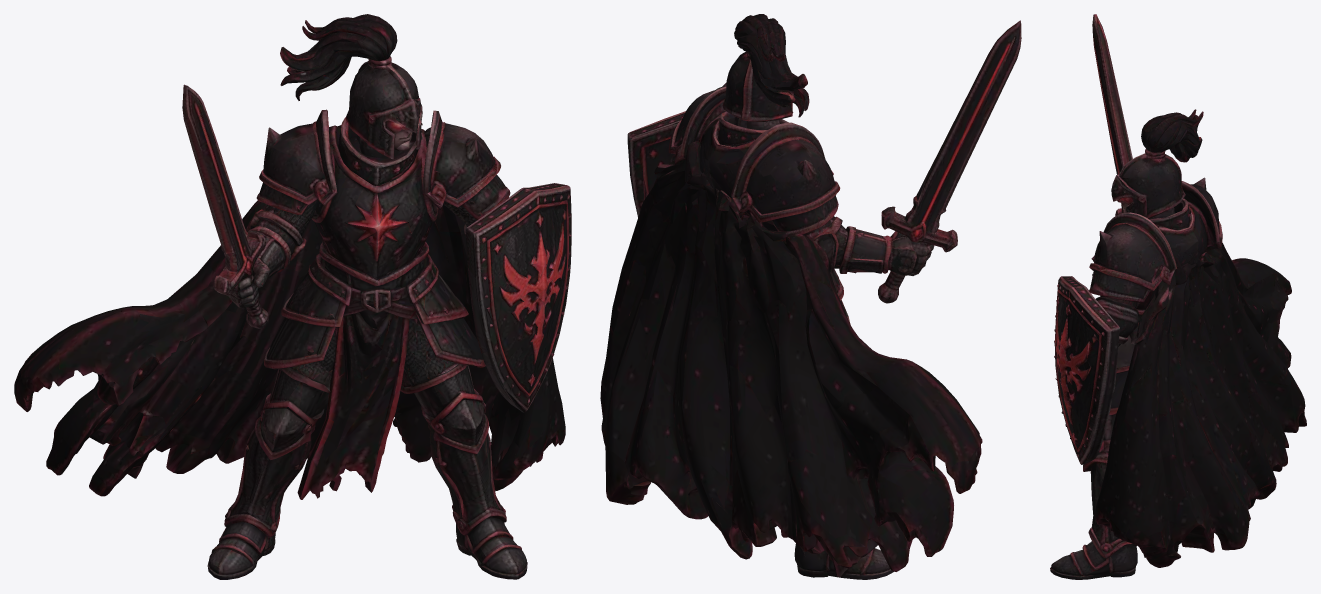
Rendered from warrior_dark.glb.
3 renders of one model, left to right at view 1: azimuth 30°, elevation 25°; view 2: azimuth 150°, elevation 25°; view 3: azimuth 270°, elevation 25°, orthographic. The views are drawn at different scales.
Bounding box in the file's own units: 1.66 × 1.9 × 1.01.
Materials: 1 (1 with a texture image).
